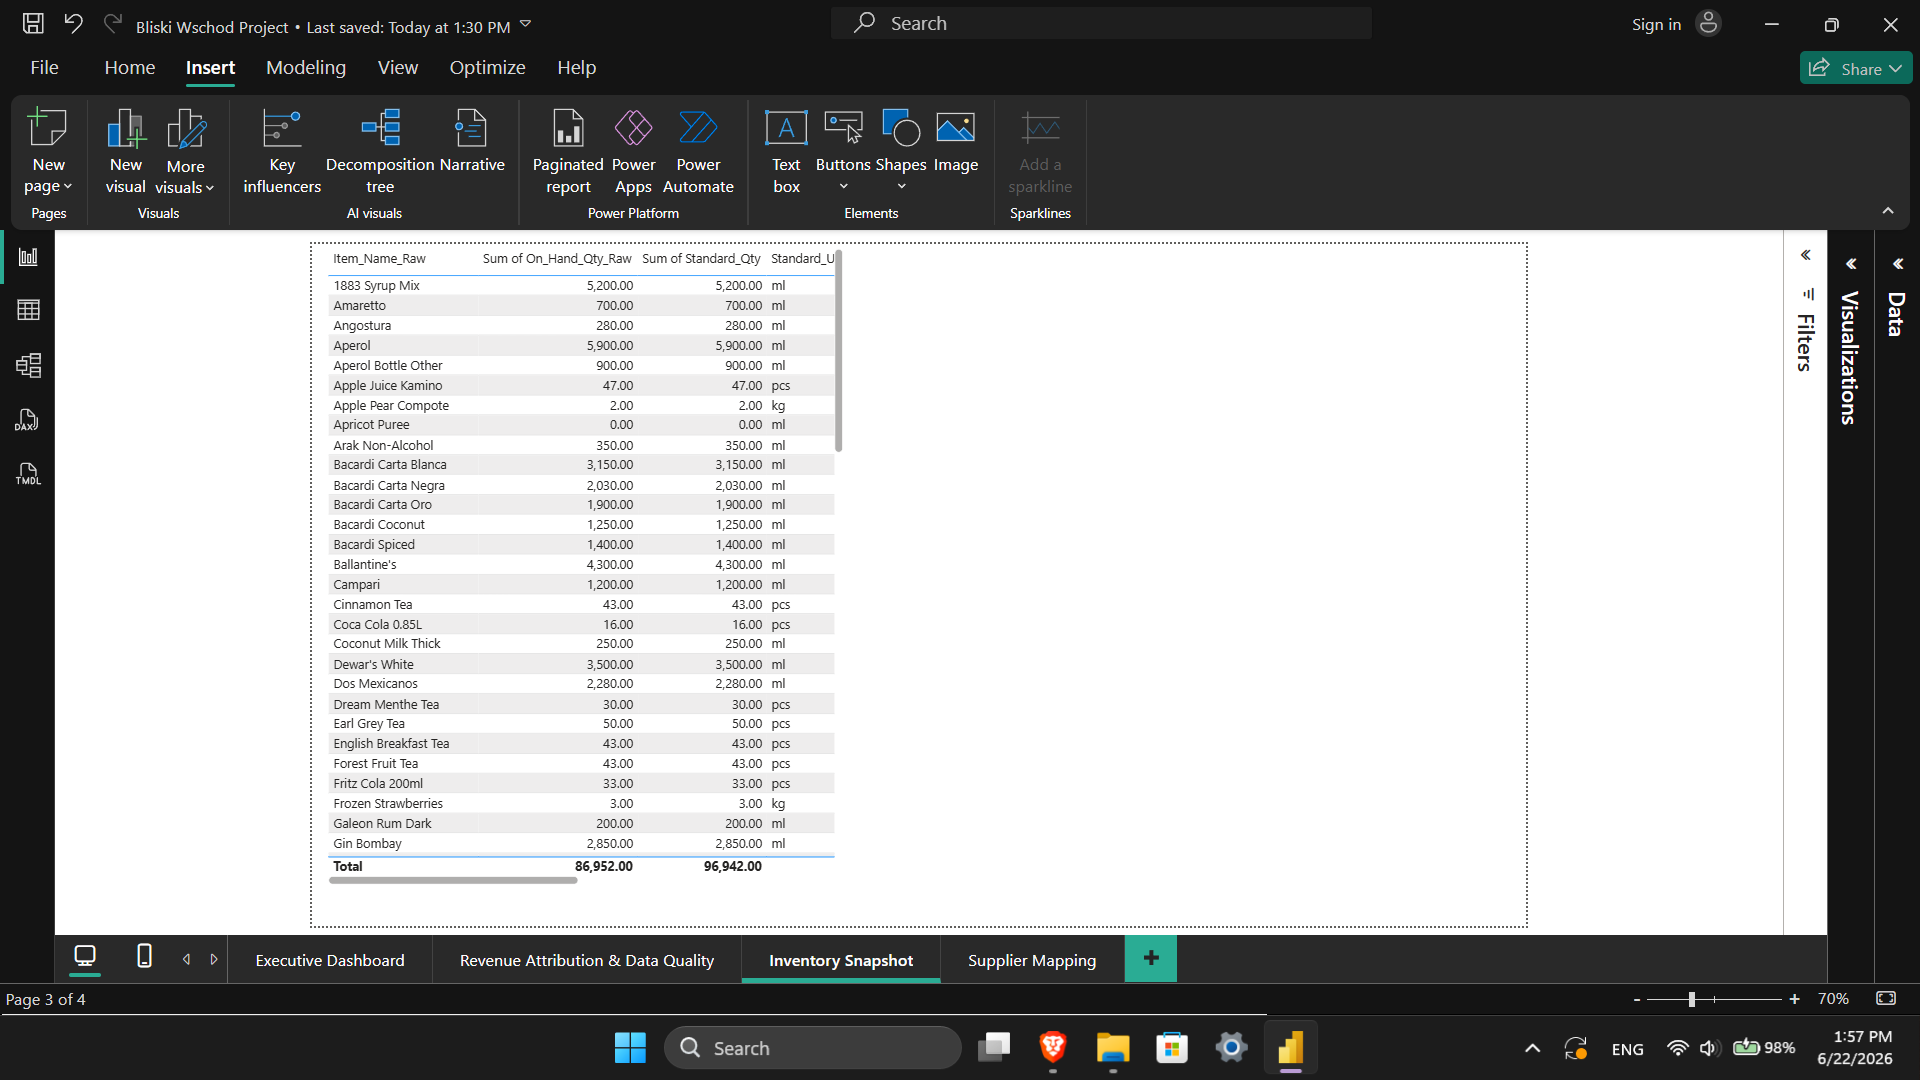

What the dashboard file says about the page in this screenshot:
{"tool":"powerbi","page":{"name":"Inventory Snapshot","canvas":[1280,720],"ordinal":2},"visuals":[{"type":"tableEx","fields":{"Values":["11_Fact_InventorySnapshot_May2026_V9.Item_Name_Raw","Sum(11_Fact_InventorySnapshot_May2026_V9.On_Hand_Qty_Raw)","Sum(11_Fact_InventorySnapshot_May2026_V9.Standard_Qty)","11_Fact_InventorySnapshot_May2026_V9.Standard_Unit","09_Dim_Ingredients_Costs.Ingredient_Name","09_Dim_Ingredients_Costs.Ingredient_Category","09_Dim_Ingredients_Costs.Estimated_Unit_Cost_PLN","01_Fact_DrinkSales_Monthly.Inventory Value"]},"box":[11.5,0,554,681],"z":0}]}

Visuals, with their boxes on the page's 1280x720 design canvas (x1, y1, x2, y2). These are canvas units, not pixel positions in the 1920x1080 screenshot, which may show the page scaled, cropped or inside an application window:
tableEx - 11_Fact_InventorySnapshot_May2026_V9.Item_Name_Raw x Sum(11_Fact_InventorySnapshot_May2026_V9.On_Hand_Qty_Raw): pyautogui.locateOnScreen(12, 0, 566, 681)
